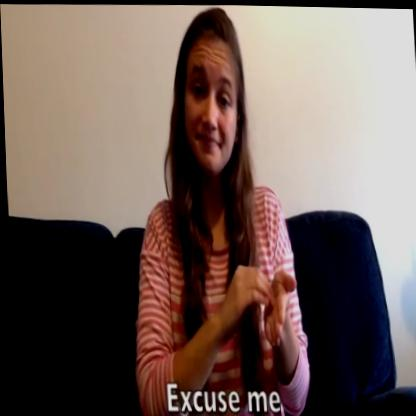ExcuseMe: (217, 242, 302, 350)
